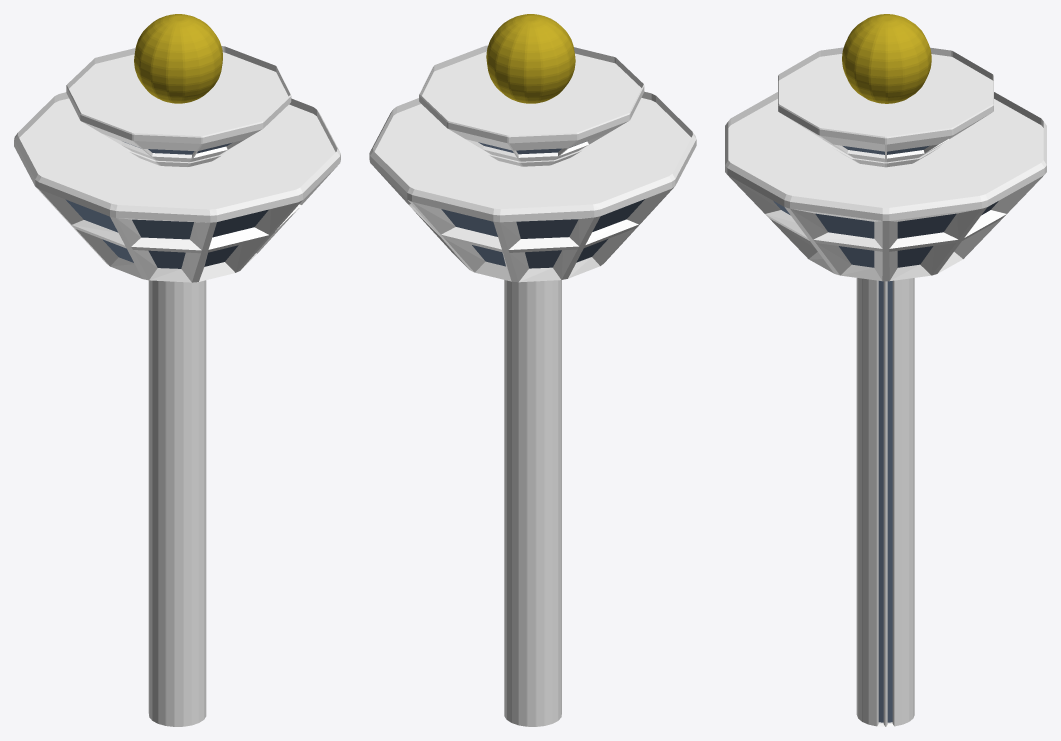
Rendered from Changi_Tower.fbx.
3 renders of one model, left to right at view 1: azimuth 30°, elevation 25°; view 2: azimuth 150°, elevation 25°; view 3: azimuth 270°, elevation 25°, orthographic.
Visible parts, largest first — view 1: Changi; view 2: Changi; view 3: Changi.
Boxes of the visible parts, <box> form: Changi: <box>14,14,340,726</box>; Changi: <box>369,14,696,726</box>; Changi: <box>725,14,1046,726</box>.
Size of the model in its own units: 9.54 by 22.54 by 9.43.
